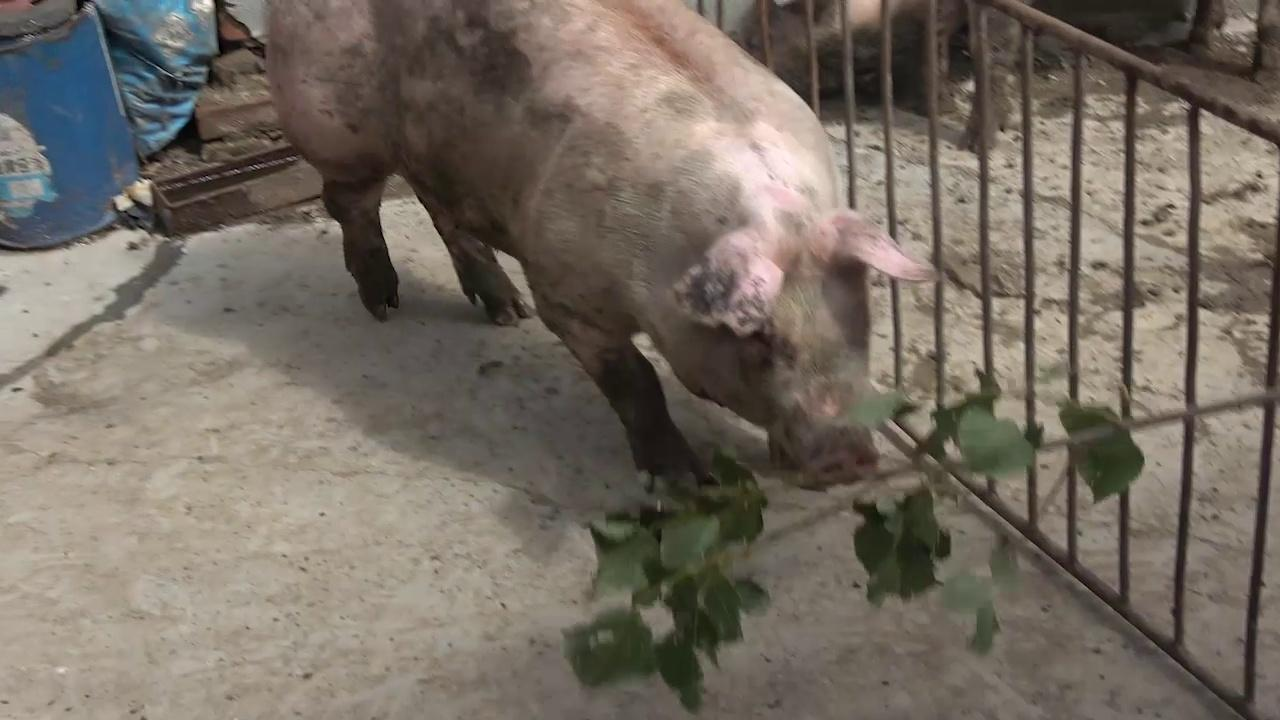Face: (656, 195, 953, 497)
